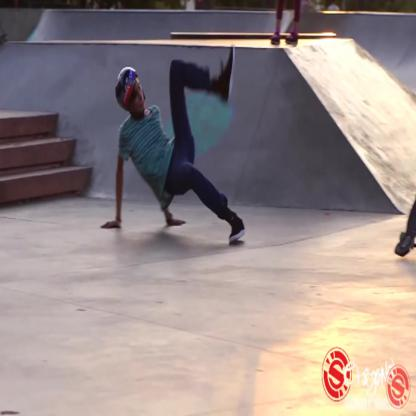Fall_Down: (99, 41, 248, 246)
